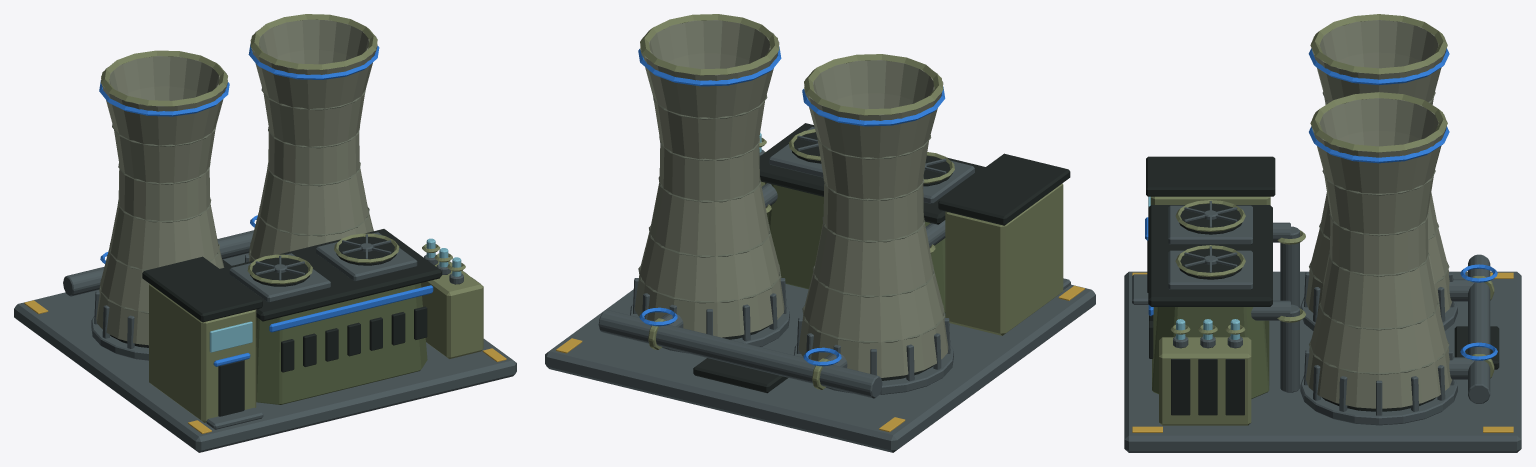
Rendered from h_power.glb.
3 views of the same model, side by side, from view 1: azimuth 30°, elevation 25°; view 2: azimuth 150°, elevation 25°; view 3: azimuth 270°, elevation 25° (orthographic). The views are drawn at different scales.
Parts seen in each view (by area): view 1: Power plant; view 2: Power plant; view 3: Power plant.
Part boxes in pixels (x1,y1,x2,y2): Power plant: (14, 14, 516, 452); Power plant: (545, 14, 1095, 452); Power plant: (1124, 14, 1521, 452).
Bounding box in the file's own units: 5.8 × 4.68 × 5.8.
